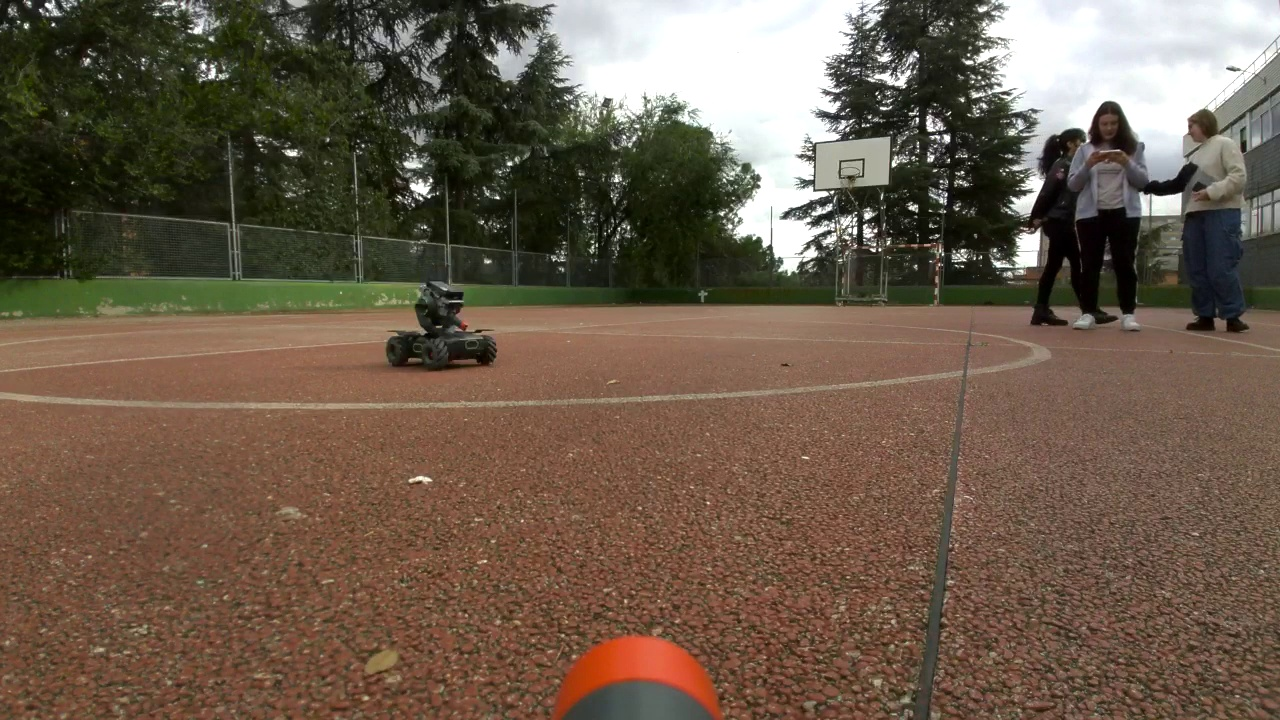robot: (388, 282, 498, 370)
